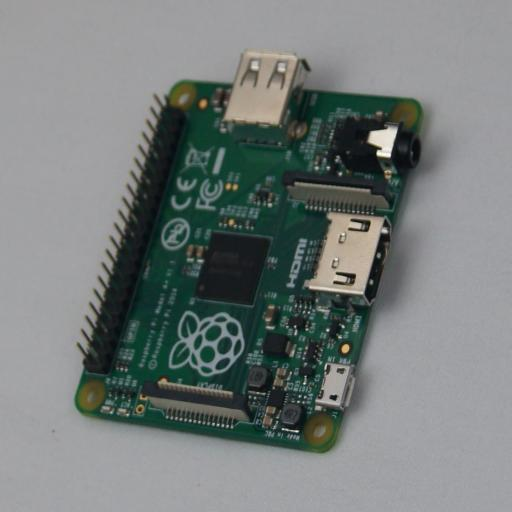Raspberry Pi A-: (75, 59, 432, 453)
